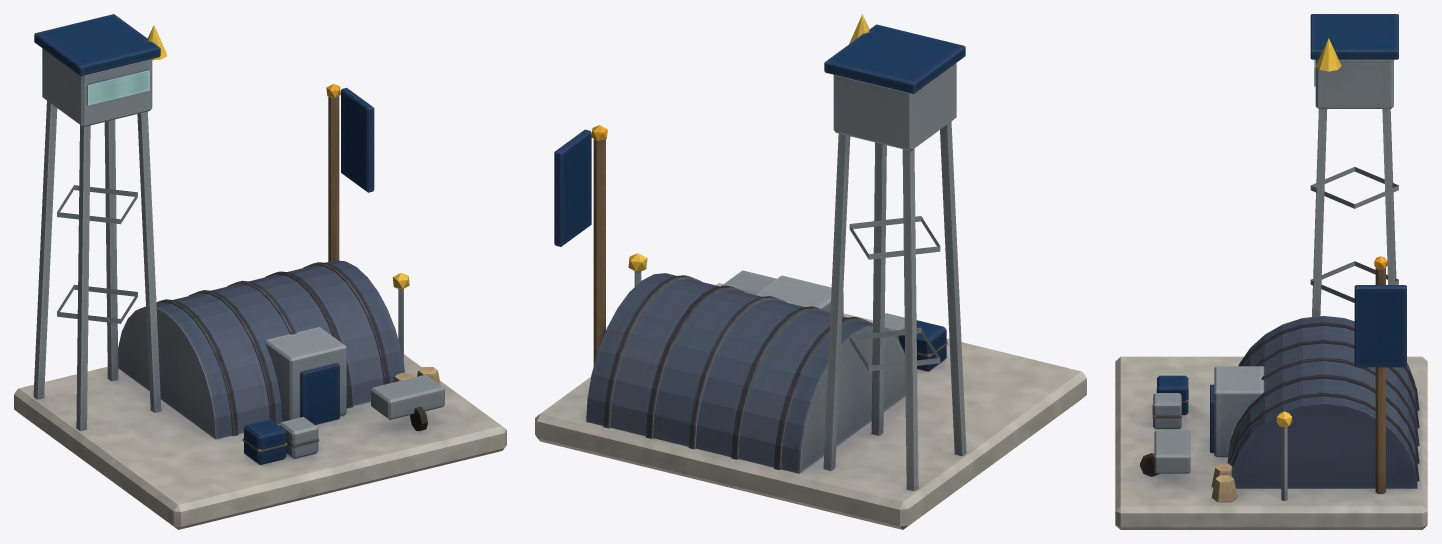
File: barracks-15.glb
3 views of the same model, side by side, from view 1: azimuth 30°, elevation 25°; view 2: azimuth 150°, elevation 25°; view 3: azimuth 270°, elevation 25° (orthographic). The views are drawn at different scales.
Visible parts, largest first — view 1: barracks-15; view 2: barracks-15; view 3: barracks-15.
Part boxes in pixels (x1,y1,x2,y2): barracks-15: (14, 14, 506, 529); barracks-15: (535, 14, 1086, 529); barracks-15: (1115, 14, 1427, 529).
Size of the model in its own units: 1.4 by 1.62 by 1.2.
1 material, 1 textured.
